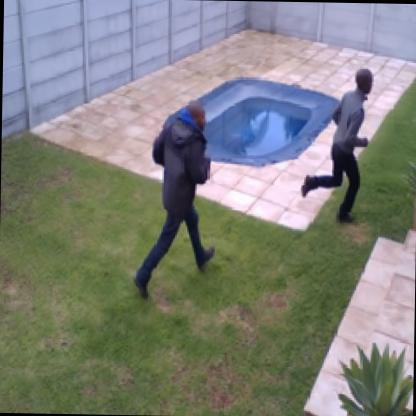Human Body: (126, 91, 216, 307), (294, 59, 377, 226)
